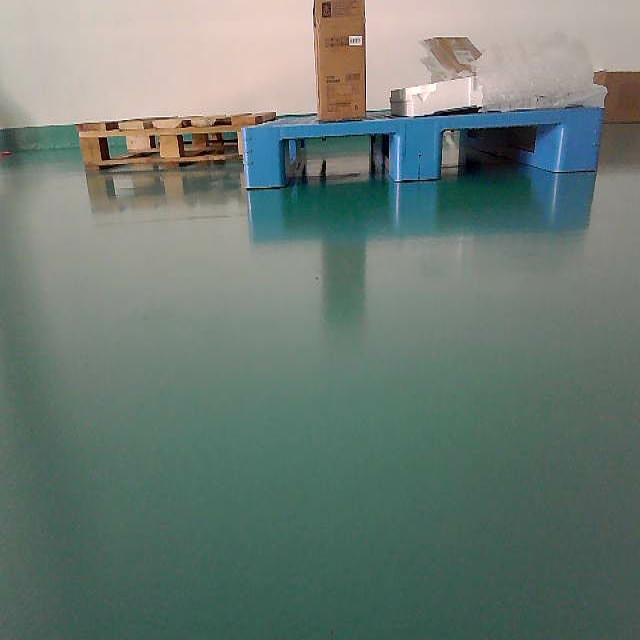euro: (71, 111, 276, 169)
